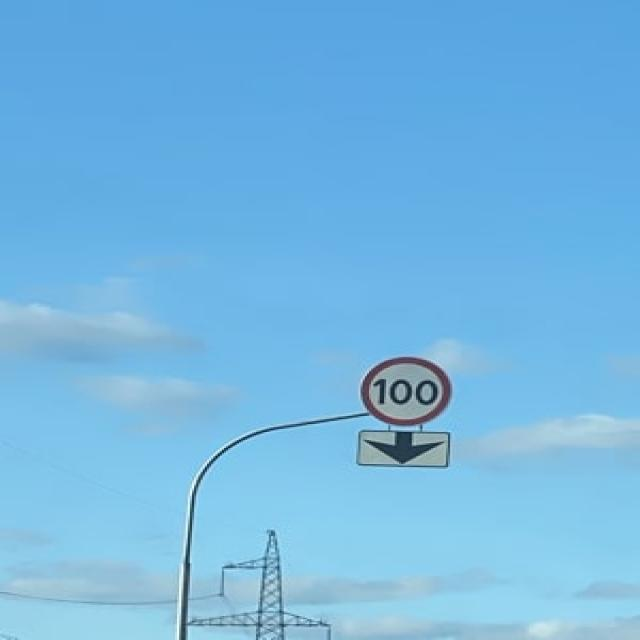Speed Limit -100-: (372, 378, 440, 406)
